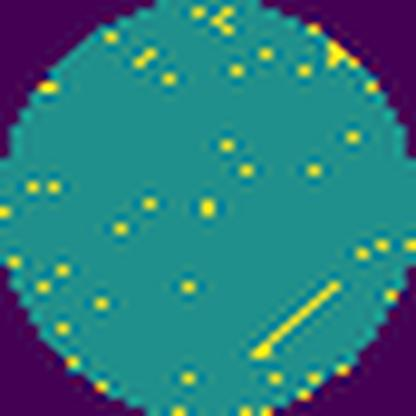Scratch: (246, 274, 345, 364)
